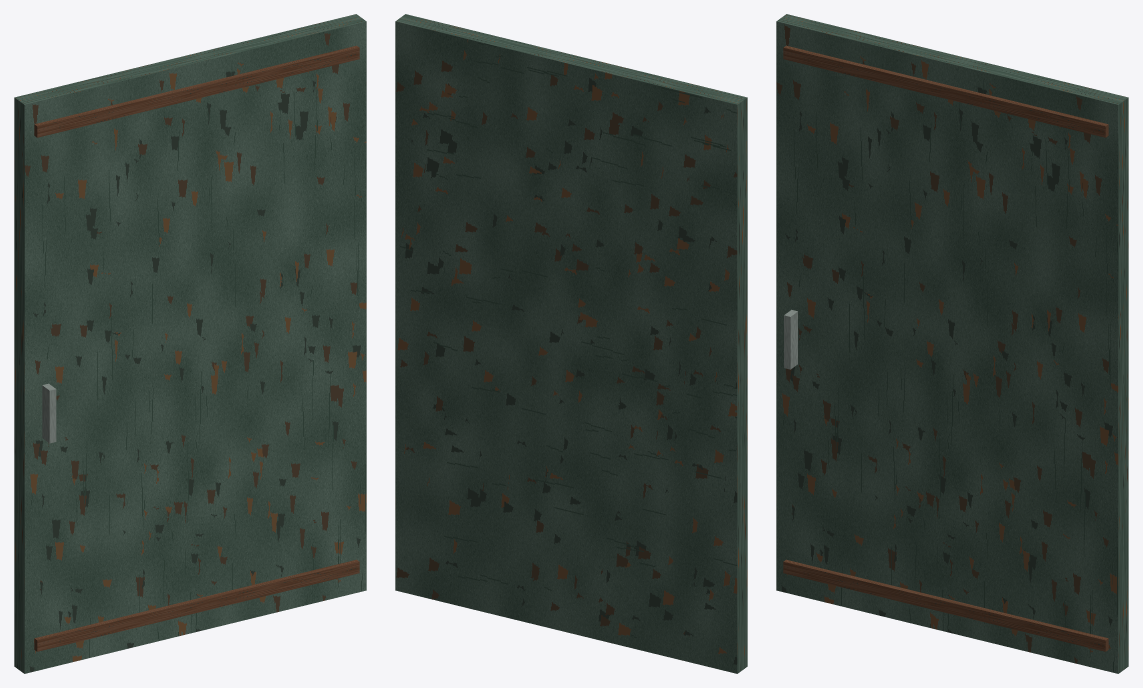
The model's file is CIS_GarageDoorRight.glb.
3 renders of one model, left to right at view 1: azimuth 30°, elevation 25°; view 2: azimuth 150°, elevation 25°; view 3: azimuth 330°, elevation 25°, orthographic.
Visible parts, largest first — view 1: CIS_GarageDoorRight; view 2: CIS_GarageDoorRight; view 3: CIS_GarageDoorRight.
Boxes of the visible parts, x1,y1,x2,y2 form: CIS_GarageDoorRight: (14,14,366,673); CIS_GarageDoorRight: (395,14,747,673); CIS_GarageDoorRight: (776,14,1128,673).
Size of the model in its own units: 1.56 by 2.48 by 0.15.
Materials: 3 (3 with a texture image).
